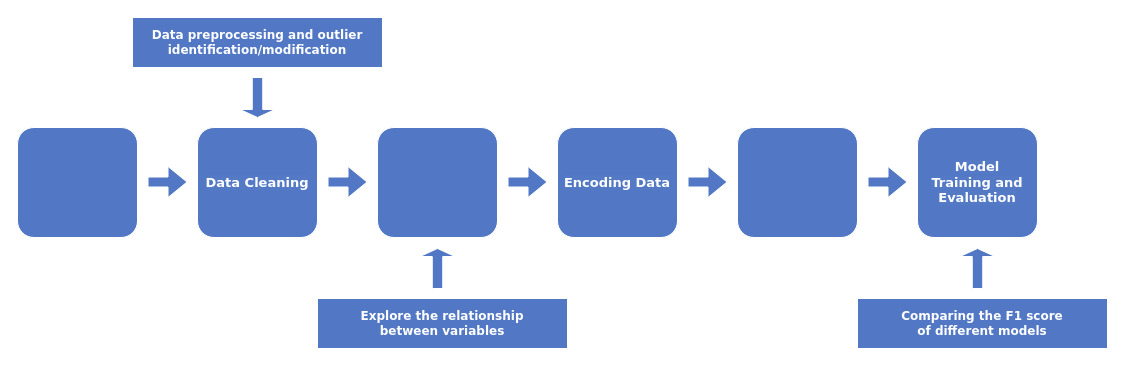
Image size: 1125x366. Some labels were removed from this diagram. The shapes that lost their labels are listed below. From the top down, each one's box as (x1, y1, x2, y2) in pixels, then its label:
(16, 126, 138, 238): Data Loading
(376, 126, 498, 238): Exploratory Data Analysis
(736, 126, 858, 238): Feature Scaling
